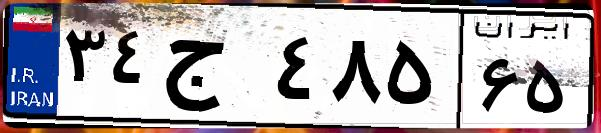3: (57, 26, 110, 100)
4: (270, 28, 330, 110), (110, 28, 158, 98)
5: (385, 28, 445, 110), (525, 38, 570, 115)
6: (475, 38, 525, 113)
8: (330, 28, 385, 110)
ج: (158, 20, 270, 120)
